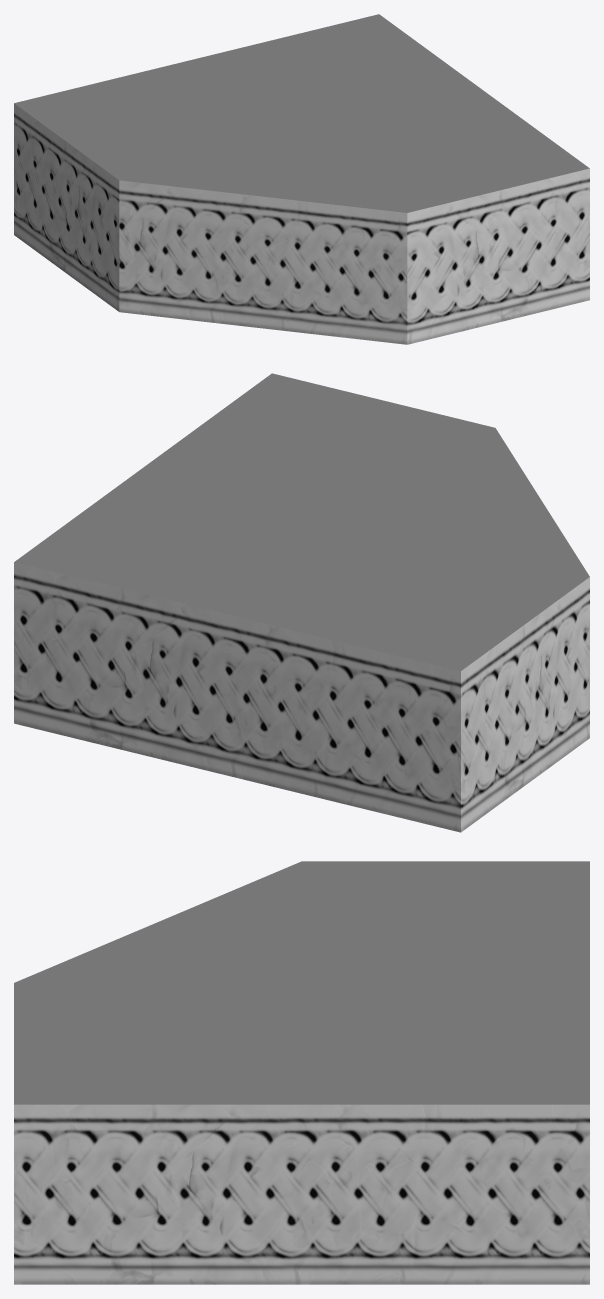
File: med_tile_ne_boundary_corner_hd.fbx
3 views of the same model, one above another, from view 1: azimuth 30°, elevation 25°; view 2: azimuth 150°, elevation 25°; view 3: azimuth 270°, elevation 25° (orthographic). The views are drawn at different scales.
Visible parts, largest first — view 1: med_tile_ne_boundary_corner_hd; view 2: med_tile_ne_boundary_corner_hd; view 3: med_tile_ne_boundary_corner_hd.
Part boxes in pixels (box(x1,y1,x2,y2)): med_tile_ne_boundary_corner_hd: box(14, 14, 589, 344); med_tile_ne_boundary_corner_hd: box(14, 373, 589, 832); med_tile_ne_boundary_corner_hd: box(14, 861, 589, 1284).
Size of the model in its own units: 100 by 34.5 by 100.
